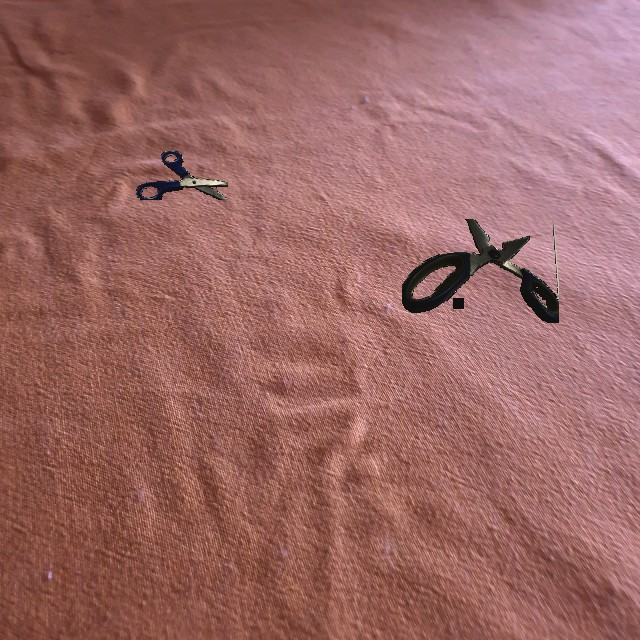scissors: (402, 219, 559, 323), (136, 150, 228, 200)
